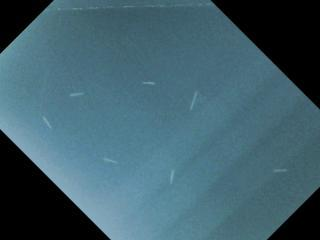crack: (47, 0, 217, 16)
scratch: (96, 153, 126, 169), (267, 161, 292, 179), (38, 112, 58, 134), (190, 88, 205, 111), (138, 76, 162, 90), (166, 163, 180, 186), (65, 88, 88, 101)
